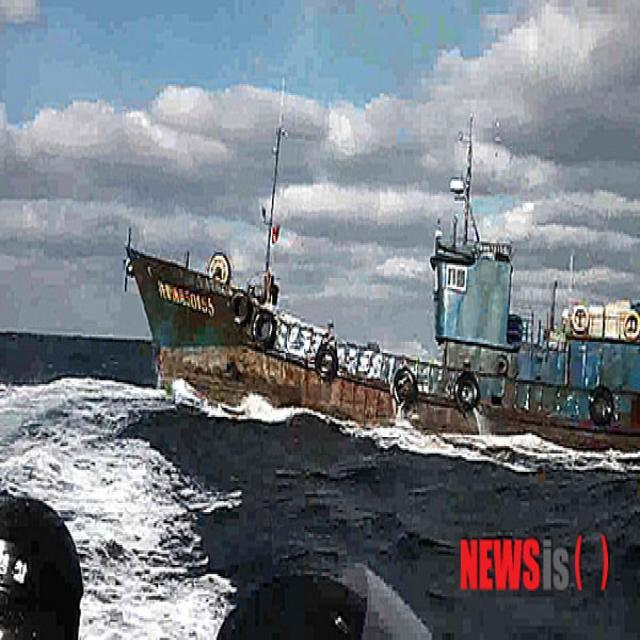Ship: (118, 89, 640, 466)
